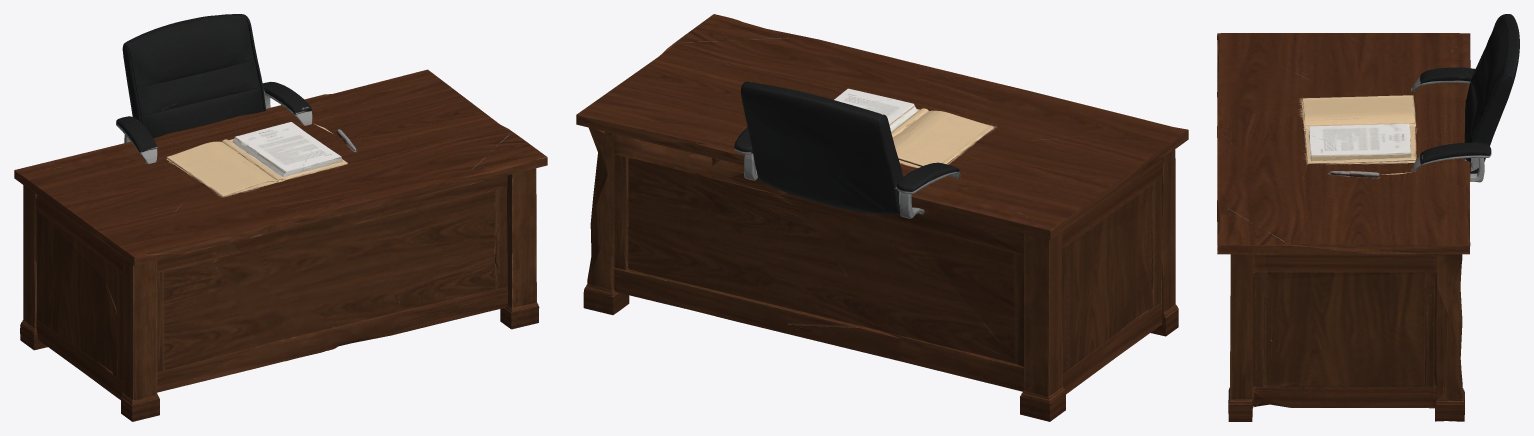
The model's file is himoyachi-stoli.glb.
The picture shows the model from 3 angles, left to right: view 1: azimuth 30°, elevation 25°; view 2: azimuth 150°, elevation 25°; view 3: azimuth 270°, elevation 25°; orthographic projection. The views are drawn at different scales.
Parts seen in each view (by area): view 1: output_unwrapped; view 2: output_unwrapped; view 3: output_unwrapped.
Part boxes in pixels (box(x1,y1,x2,y2)): output_unwrapped: box(14, 14, 547, 421); output_unwrapped: box(576, 14, 1188, 421); output_unwrapped: box(1217, 14, 1519, 421).
Bounding box in the file's own units: 1.8 × 1.06 × 1.08.
1 material, 1 textured.
